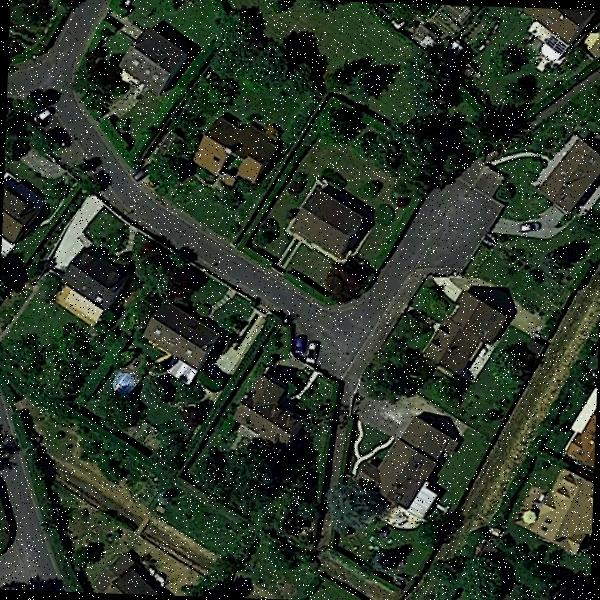Buildings: (378, 426, 451, 506), (520, 476, 594, 552), (432, 291, 503, 368), (196, 117, 278, 181), (145, 303, 214, 375), (549, 130, 600, 216), (288, 198, 372, 250), (240, 376, 300, 442), (524, 7, 600, 59), (130, 39, 179, 100), (6, 178, 44, 248), (561, 392, 597, 464), (62, 274, 105, 322)
